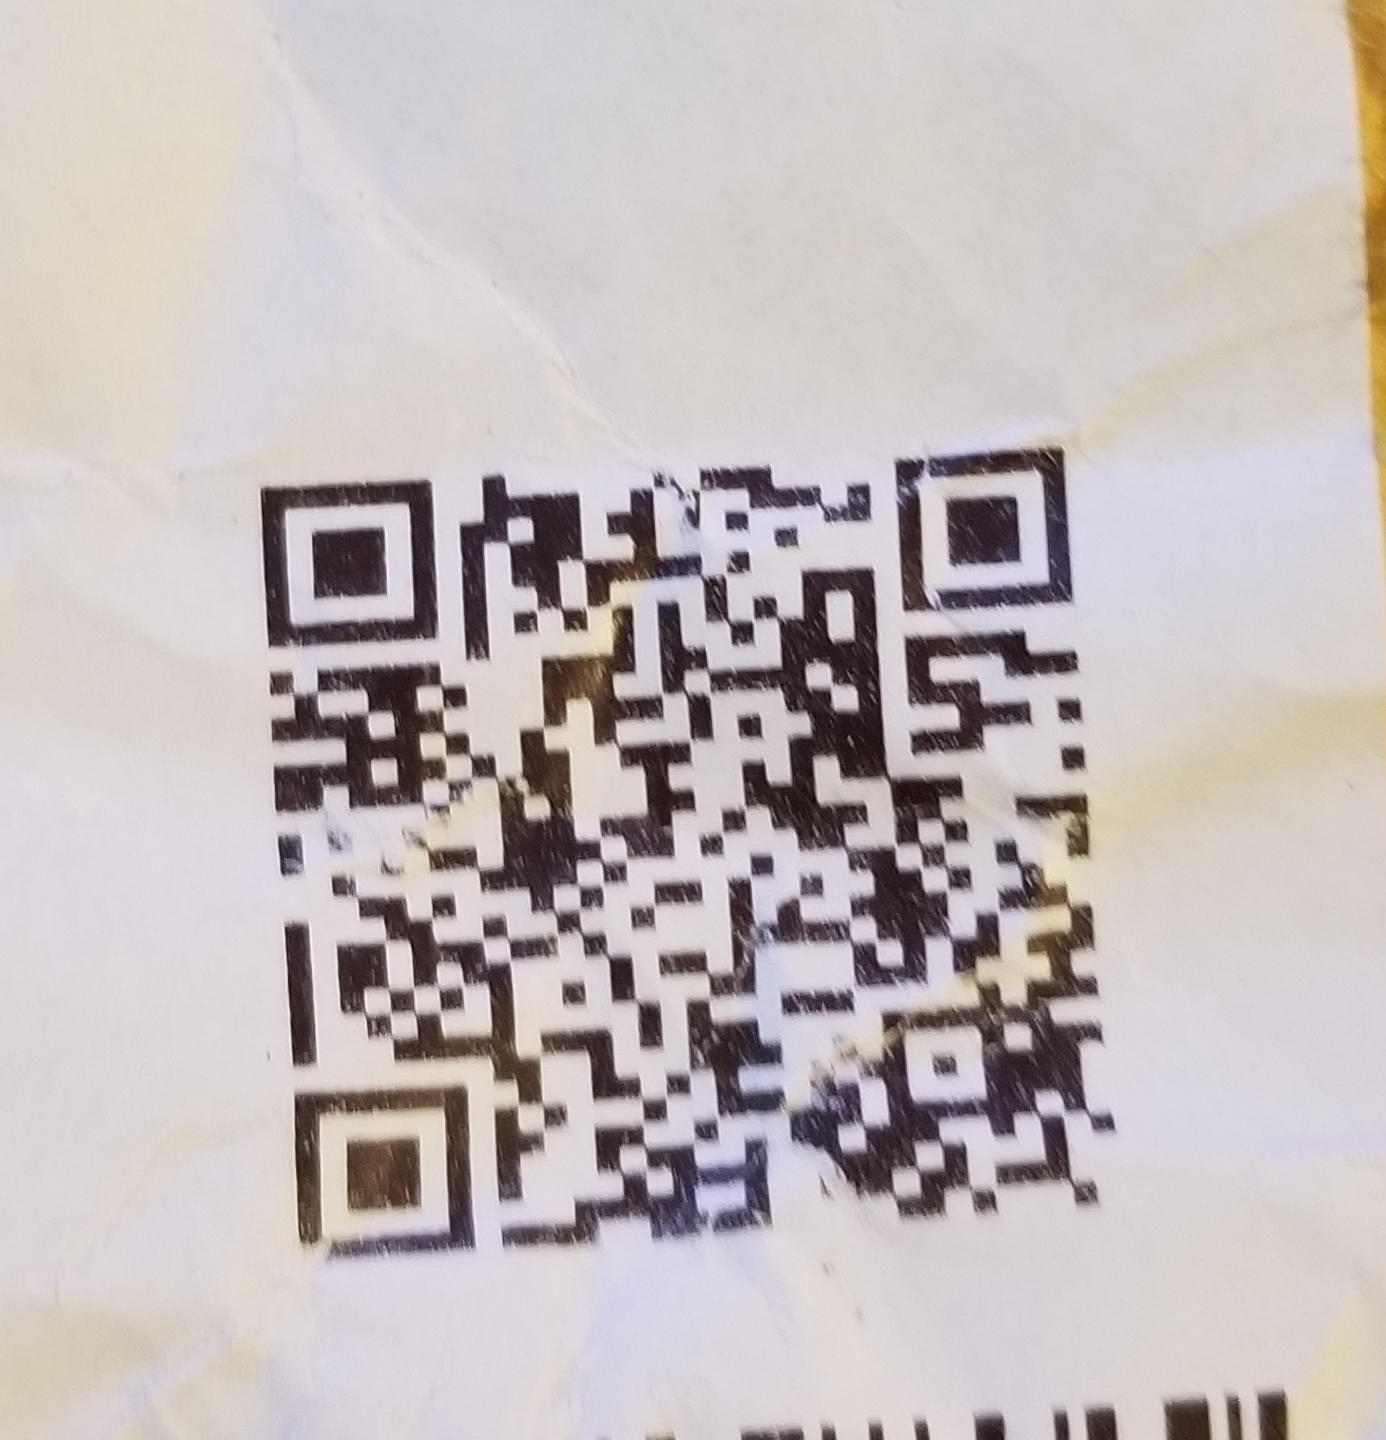QR_CODE: (203, 381, 1158, 1284)
